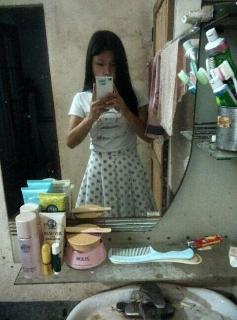short sleeve top: (67, 84, 150, 153)
skirt: (74, 141, 160, 219)
